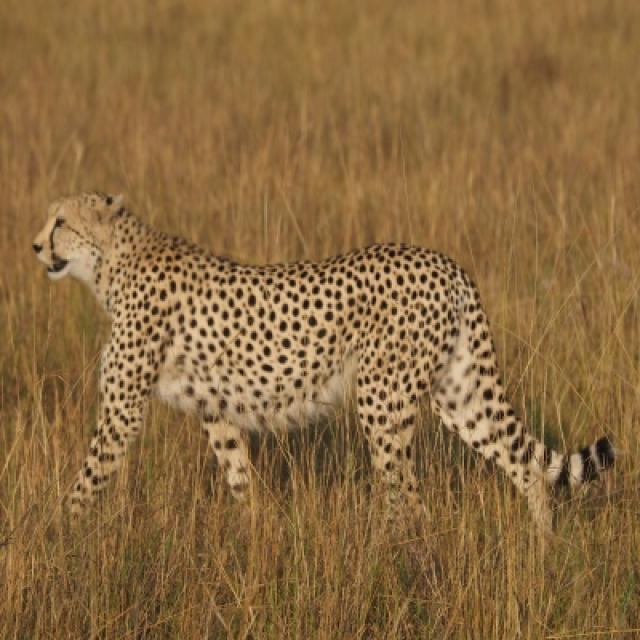Cheetah: (30, 194, 616, 528)
